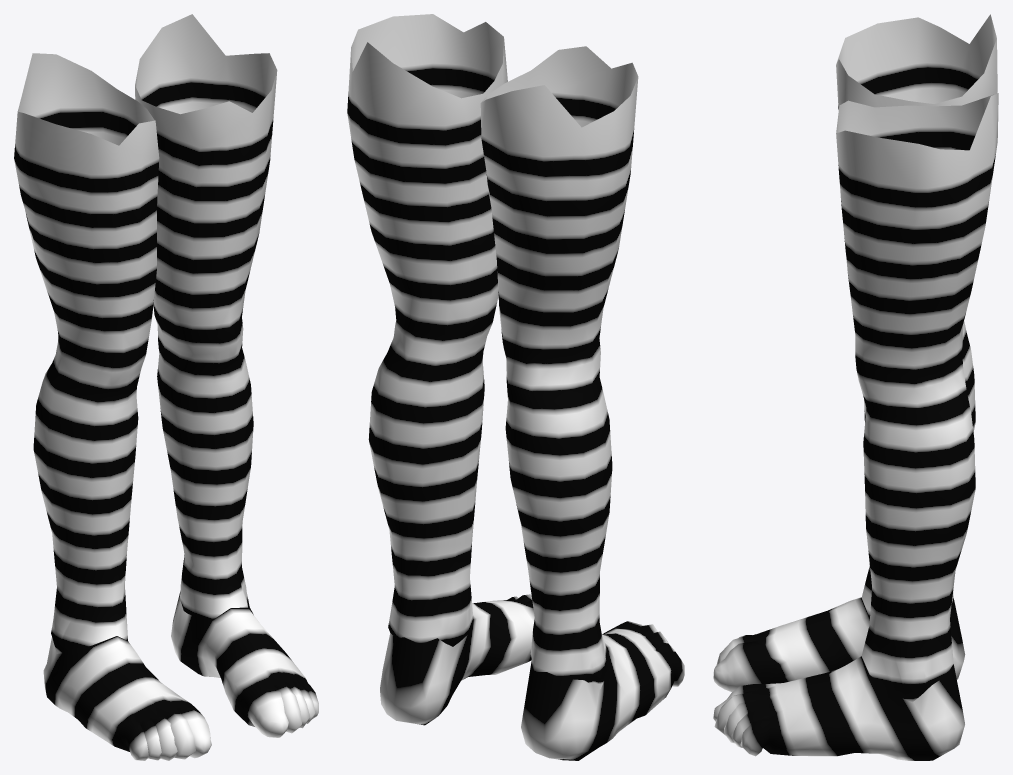
Rendered from socks2.fbx.
3 views of the same model, side by side, from view 1: azimuth 30°, elevation 25°; view 2: azimuth 150°, elevation 25°; view 3: azimuth 270°, elevation 25° (orthographic). The views are drawn at different scales.
Visible parts, largest first — view 1: カスタム少女_mesh; view 2: カスタム少女_mesh; view 3: カスタム少女_mesh.
Part boxes in pixels (bbox=[...]): カスタム少女_mesh: bbox=[14, 14, 318, 760]; カスタム少女_mesh: bbox=[347, 14, 684, 760]; カスタム少女_mesh: bbox=[713, 14, 998, 760].
Bounding box in the file's own units: 374 × 919 × 357.
Materials: 1 (1 with a texture image).
